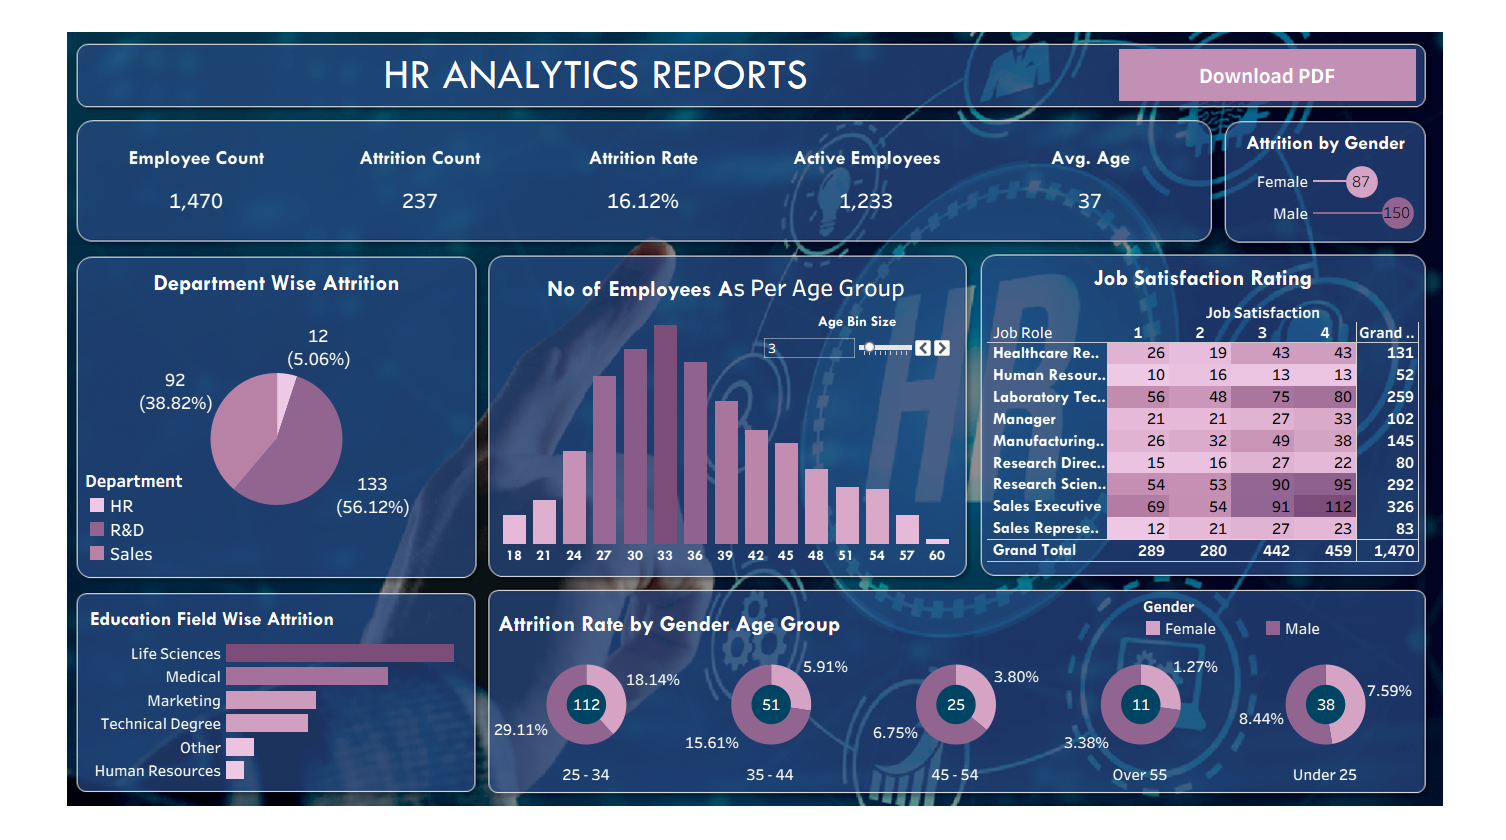

The page's visual inventory and layout, read from the dashboard file:
{"tool":"tableau","page":{"name":"HR REPORT","canvas":[1400,800],"ordinal":0},"visuals":[{"type":"image","param":"Image/HR background.png","box":[8,8,1384,784]},{"type":"dashboard-object","box":[1064,30,297,52]},{"type":"text","box":[30,32,1021,47]},{"type":"worksheet","title":"Attrition by Gender","mark":"Automatic","rows":["Gender"],"cols":["Calculation_188588247369265152","Calculation_188588247369265152"],"box":[1178,109,185,111]},{"type":"worksheet","title":"KPI","mark":"Automatic","box":[30,110,1117,104]},{"type":"worksheet","title":"Job Satisfaction Rating","mark":"Square","rows":["Job Role"],"cols":["Job Satisfaction"],"box":[932,242,432,301]},{"type":"worksheet","title":"Department wise Attrition","mark":"Pie","box":[26,247,391,305]},{"type":"worksheet","title":"No of Employees As Per Age Group","mark":"Automatic","rows":["Employee Count"],"cols":["Age (bin)"],"box":[444,248,454,298]},{"type":"parameter","param":"[Parameters].[Parameter 1]","box":[706,294,192,50]},{"type":"legend","title":"Department wise Attrition","param":"[federated.1cbpzud18lcixi18847971k9rdsp].[none:Department:nk]","box":[30,450,136,97]},{"type":"legend","title":"Attrition Rate by Gender Age Group","param":"[federated.1cbpzud18lcixi18847971k9rdsp].[none:Gender:nk]","box":[1088,577,275,64]},{"type":"worksheet","title":"Education Field Wise Attrition","mark":"Automatic","rows":["Education Field"],"cols":["Calculation_188588247369265152"],"box":[31,585,381,178]},{"type":"worksheet","title":"Attrition Rate by Gender Age Group","mark":"Pie","rows":["Calculation_188588247412531204","Calculation_188588247412531204"],"cols":["CF_age band"],"box":[439,588,924,179]}]}

Visuals, with their boxes in screenshot pixels (x1, y1, x2, y2), scaled from the page's 1400x800 canvas onto the 1506x840 screenshot:
image: bbox(9, 8, 1497, 832)
dashboard-object: bbox(1145, 32, 1464, 86)
text: bbox(32, 34, 1131, 83)
"Attrition by Gender" worksheet: bbox(1267, 114, 1466, 231)
"KPI" worksheet: bbox(32, 116, 1234, 225)
"Job Satisfaction Rating" worksheet (Square marks): bbox(1003, 254, 1467, 570)
"Department wise Attrition" worksheet (Pie marks): bbox(28, 259, 449, 580)
"No of Employees As Per Age Group" worksheet: bbox(478, 260, 966, 573)
parameter: bbox(759, 309, 966, 361)
"Department wise Attrition" legend: bbox(32, 472, 179, 574)
"Attrition Rate by Gender Age Group" legend: bbox(1170, 606, 1466, 673)
"Education Field Wise Attrition" worksheet: bbox(33, 614, 443, 801)
"Attrition Rate by Gender Age Group" worksheet (Pie marks): bbox(472, 617, 1466, 805)
